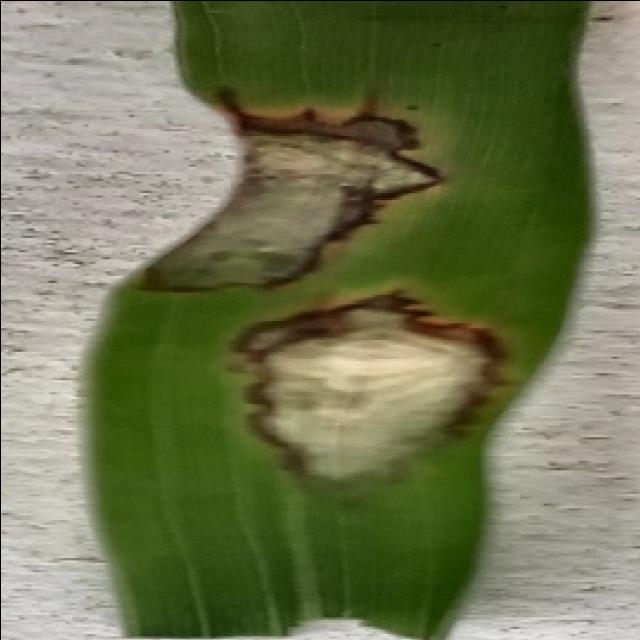Leaf_Blast: (124, 83, 512, 500)
